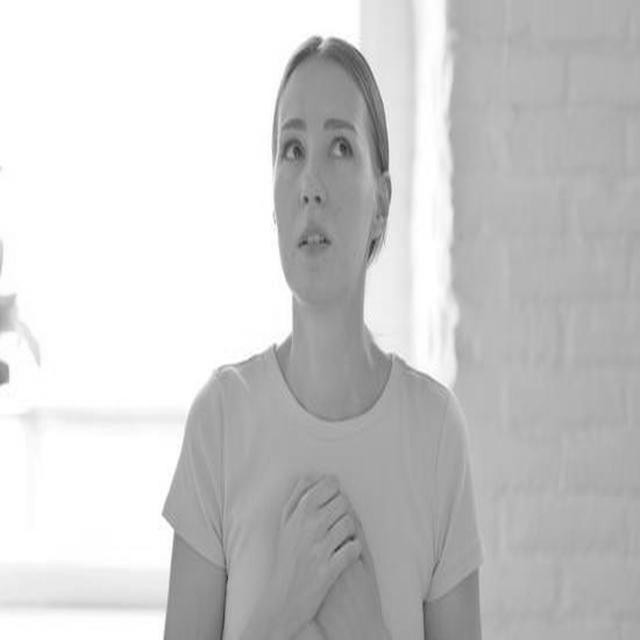Fear: (273, 62, 368, 306)
